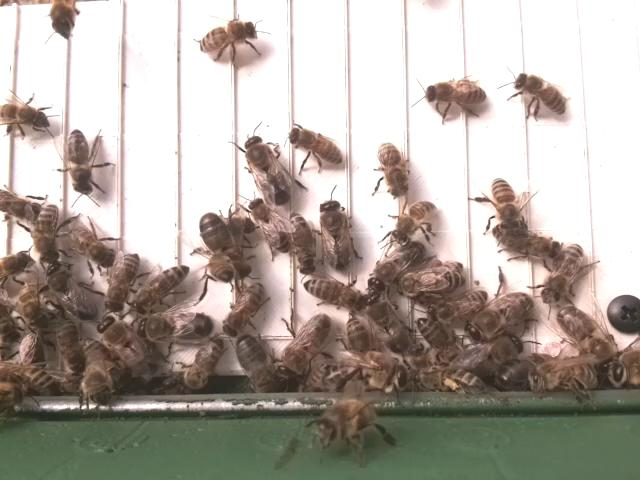Drone: (275, 310, 335, 381), (194, 209, 254, 279), (462, 288, 539, 341), (241, 133, 296, 207), (316, 198, 356, 273), (136, 311, 218, 345)
Worker: (539, 242, 588, 307), (129, 263, 194, 312), (510, 69, 570, 114), (247, 195, 290, 256), (386, 197, 438, 247), (219, 282, 264, 339), (287, 124, 345, 166), (374, 139, 413, 200), (299, 274, 358, 314), (104, 251, 143, 311), (65, 125, 97, 198), (197, 19, 261, 55), (423, 76, 488, 110), (33, 199, 63, 266), (490, 174, 524, 230), (290, 210, 317, 274)
